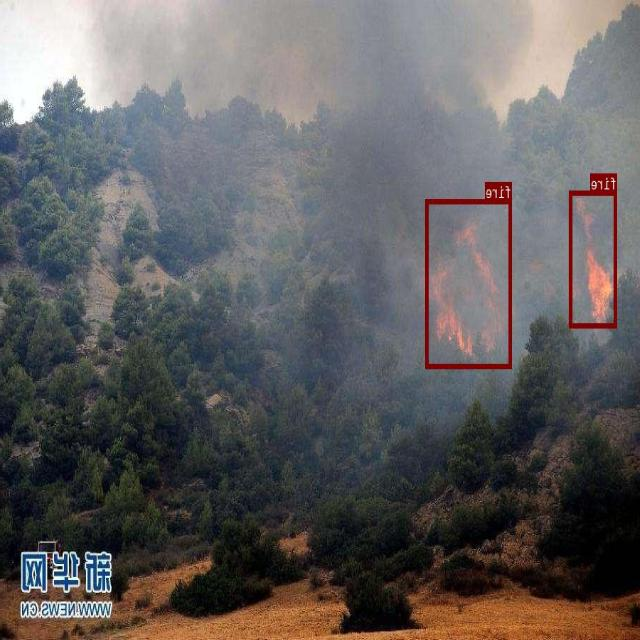fire: (427, 199, 512, 368), (570, 190, 617, 326)
